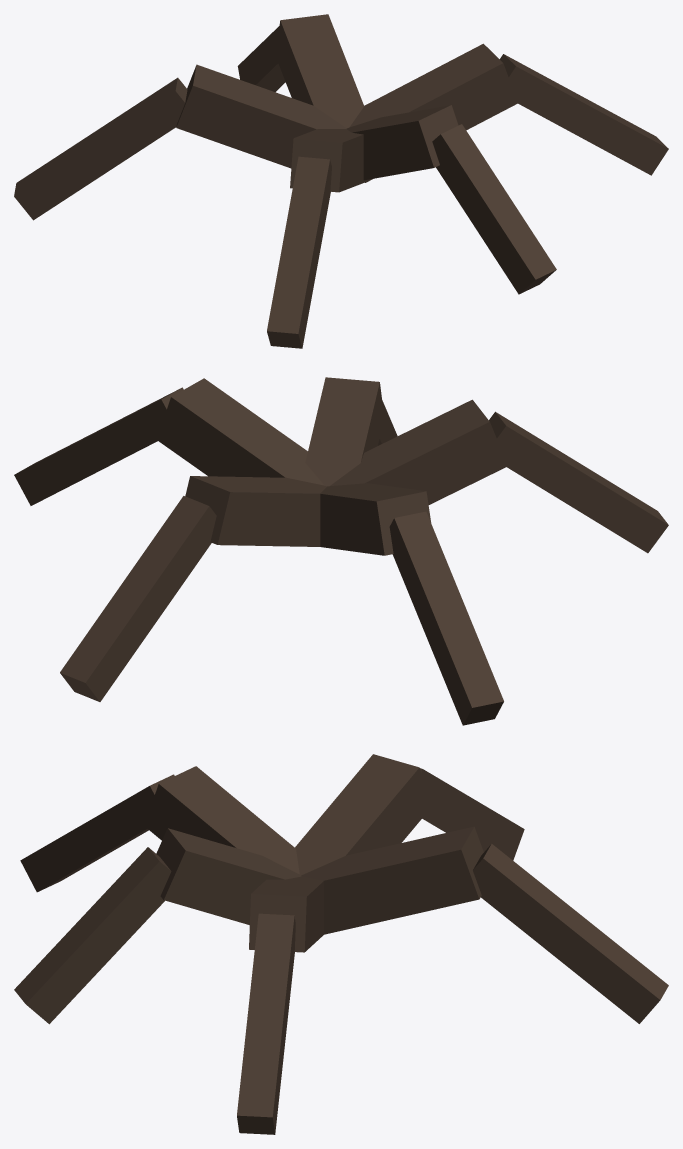
Rendered from roots.fbx.
3 views of the same model, one above another, from view 1: azimuth 30°, elevation 25°; view 2: azimuth 150°, elevation 25°; view 3: azimuth 270°, elevation 25° (orthographic). The views are drawn at different scales.
Parts seen in each view (by area): view 1: roots; view 2: roots; view 3: roots.
Part boxes in pixels (left/top/right/bottom): roots: left=14, top=14, right=668, bottom=348; roots: left=14, top=377, right=668, bottom=725; roots: left=14, top=754, right=668, bottom=1134.
Size of the model in its own units: 875 by 221 by 815.
